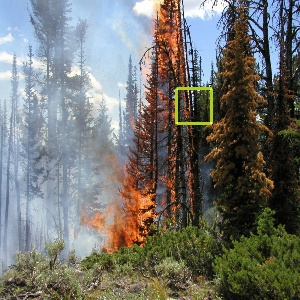square: (174, 87, 214, 125)
